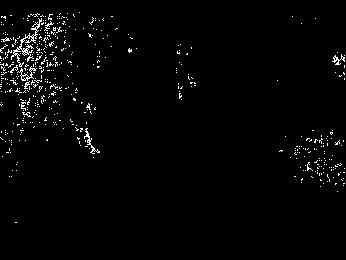person: (68, 92, 102, 155), (171, 59, 199, 100)
